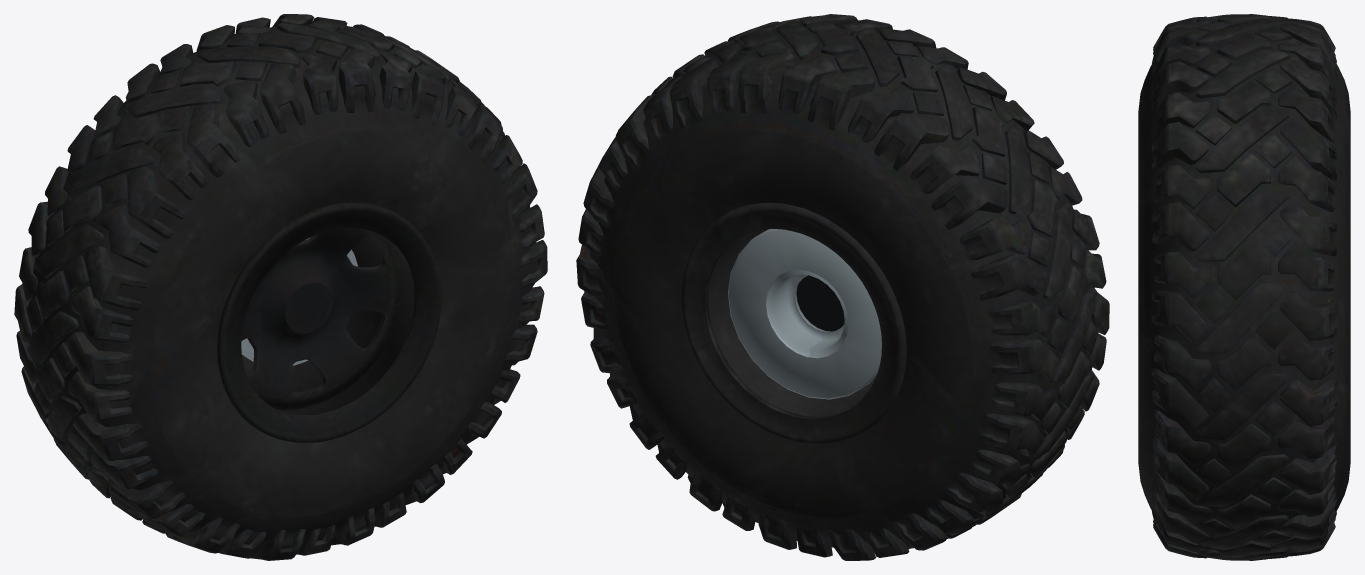
Rendered from SM_Offroad_Tire.glb.
3 renders of one model, left to right at view 1: azimuth 30°, elevation 25°; view 2: azimuth 150°, elevation 25°; view 3: azimuth 270°, elevation 25°, orthographic.
Parts seen in each view (by area): view 1: SM_Offroad_Tire; view 2: SM_Offroad_Tire; view 3: SM_Offroad_Tire.
Boxes of the visible parts, x1,y1,x2,y2 form: SM_Offroad_Tire: (14,14,547,560); SM_Offroad_Tire: (576,14,1109,560); SM_Offroad_Tire: (1138,14,1350,560).
Bounding box in the file's own units: 1.02 × 1.02 × 0.3971.
Materials: 1 (1 with a texture image).
